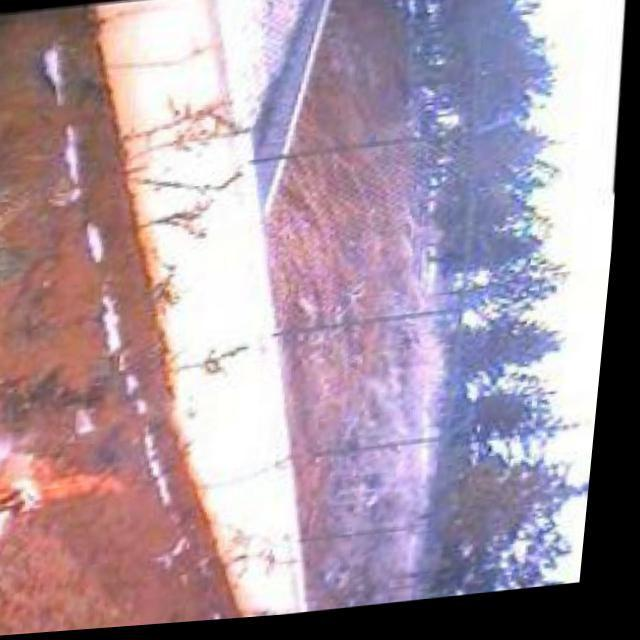fire: (0, 440, 146, 524)
